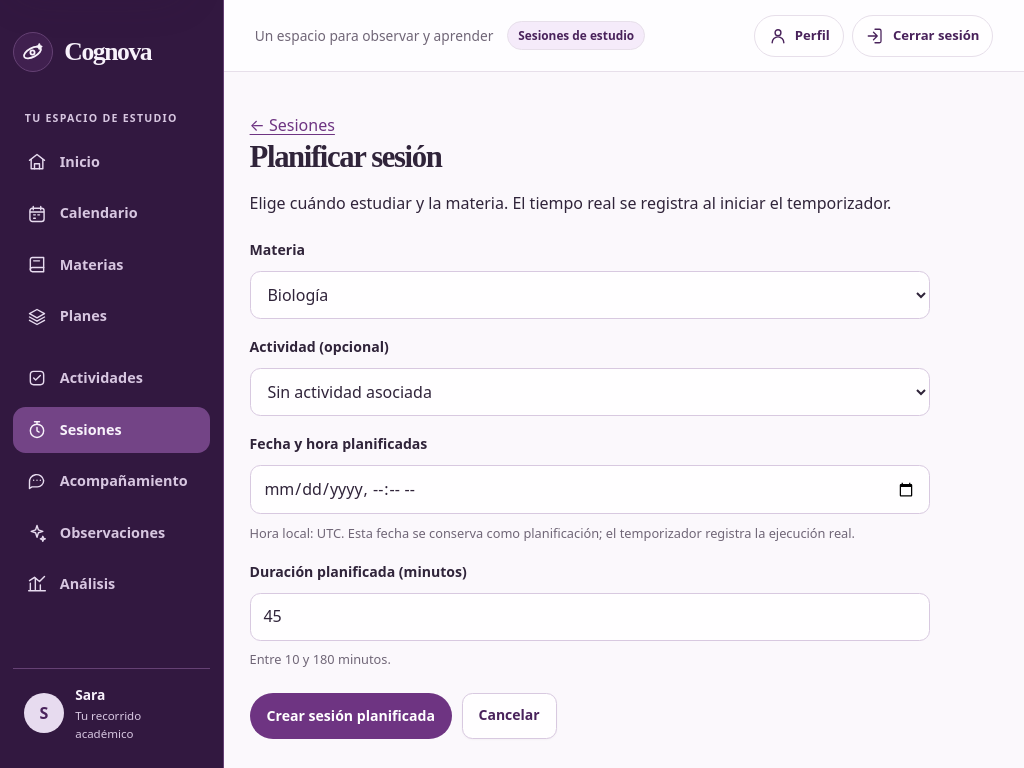
Test case: study session planning routes › creates a planned session with a compatible optional activity
Check: the form named "Planificar sesión" is shown, box left=250, top=231, right=930, bottom=738
Step 1. Select "Leer capítulo" in the dropdown labelled "Actividad (opcional)" → (590, 392), box left=250, top=368, right=930, bottom=416
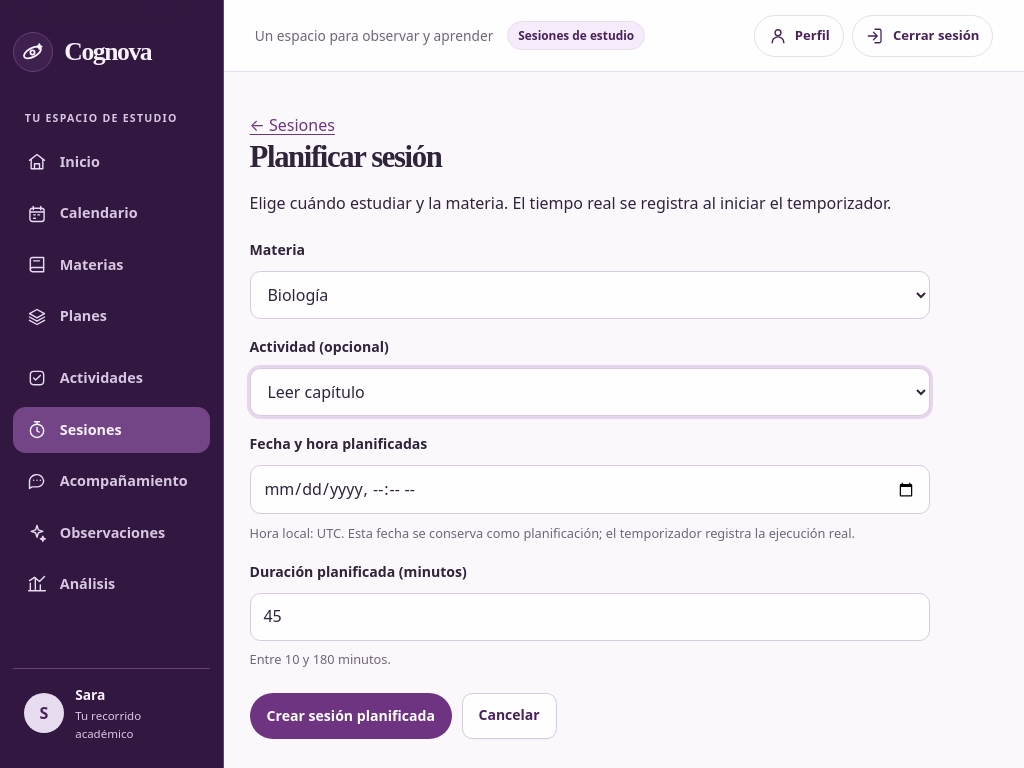
Step 2. Type "2030-01-16T11:30" into the field labelled "Fecha y hora planificadas" → (590, 490), box left=250, top=465, right=930, bottom=514
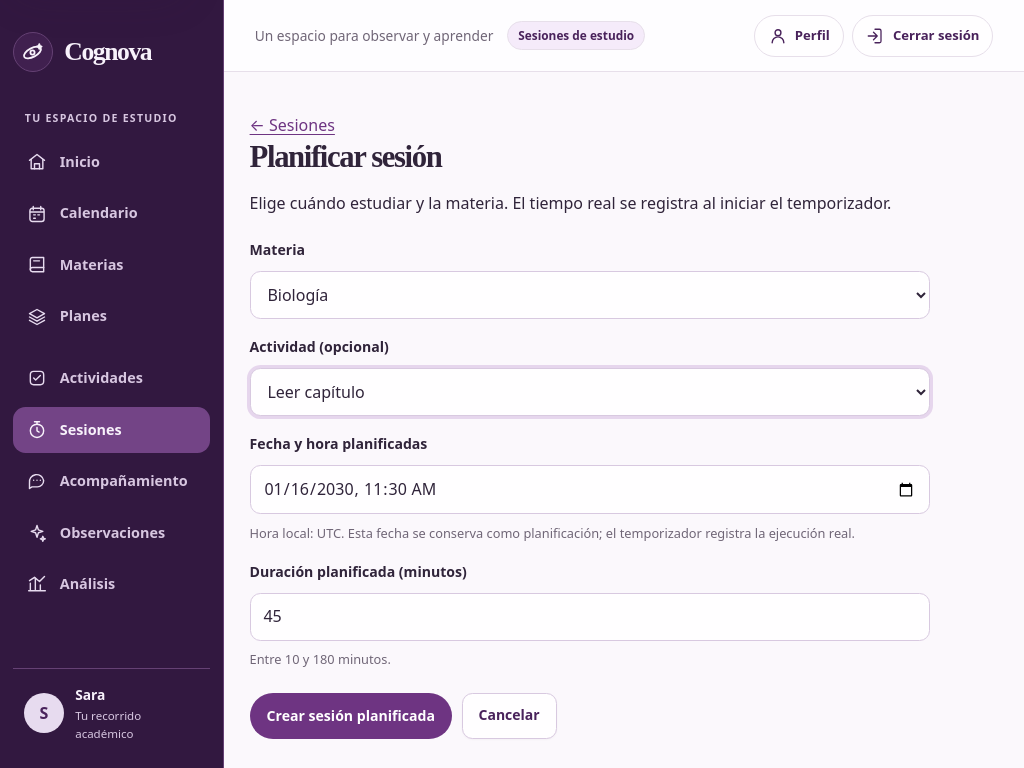
Step 3. Click the button "Crear sesión planificada" → (351, 716), box left=250, top=692, right=452, bottom=738
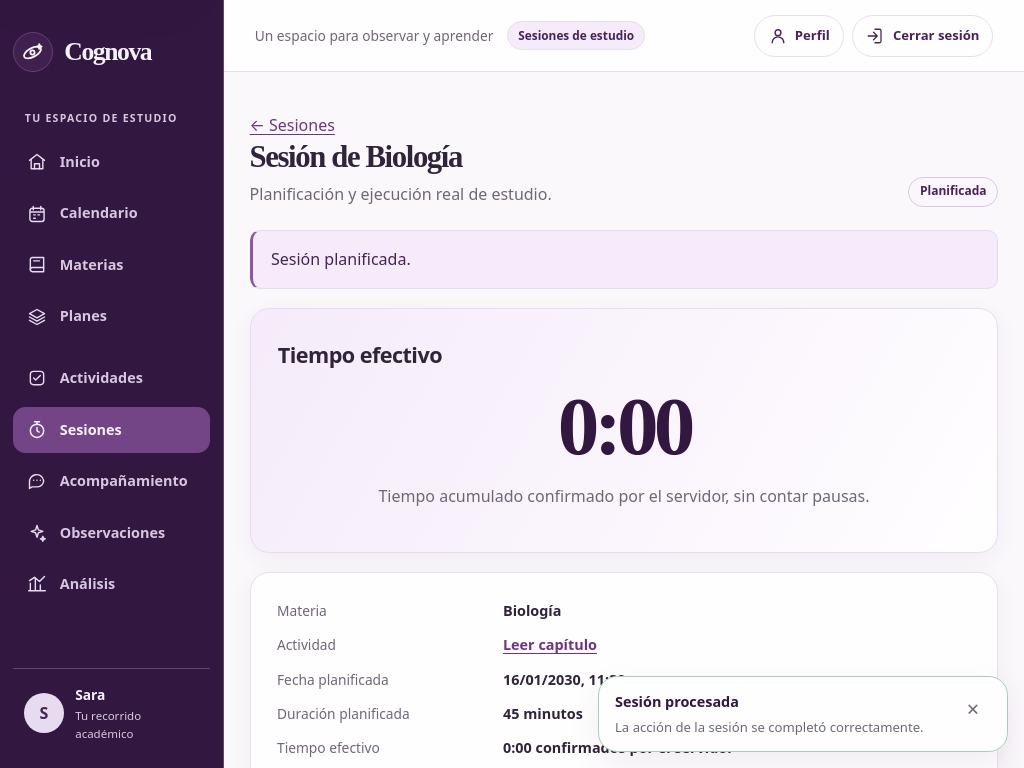
Check: the heading "Sesión de Biología" is shown, box left=250, top=140, right=462, bottom=174
